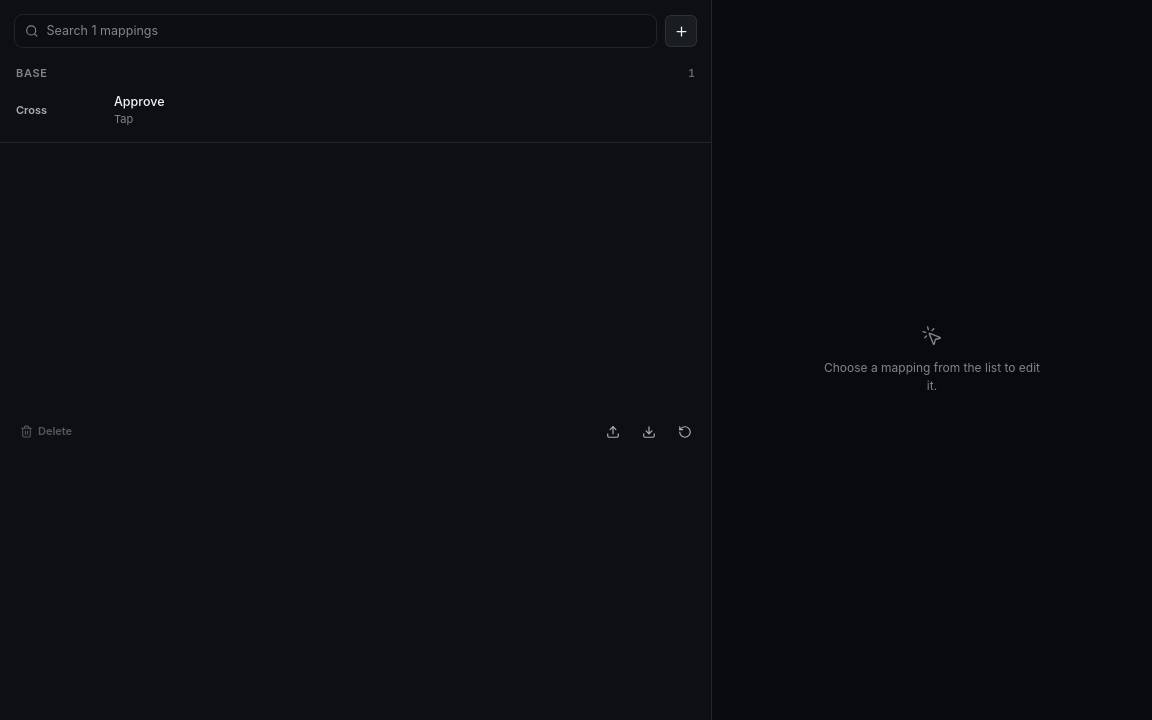
Scenario: resetting to defaults › leaves the library alone when the prompt is cancelled
This screenshot has width=1152, height=720.
Click the button named "Reset mappings to defaults".
click(685, 432)  # box [669,416,701,448]
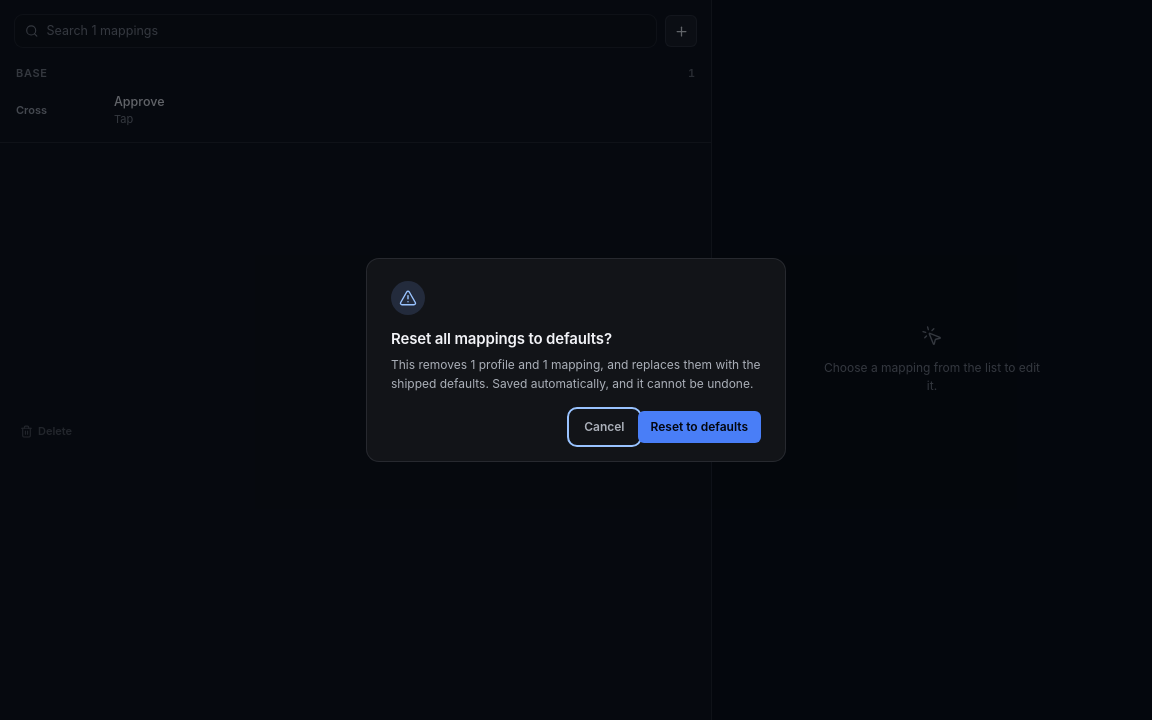
Click the button "Cancel".
click(604, 428)  # box [571,412,638,444]
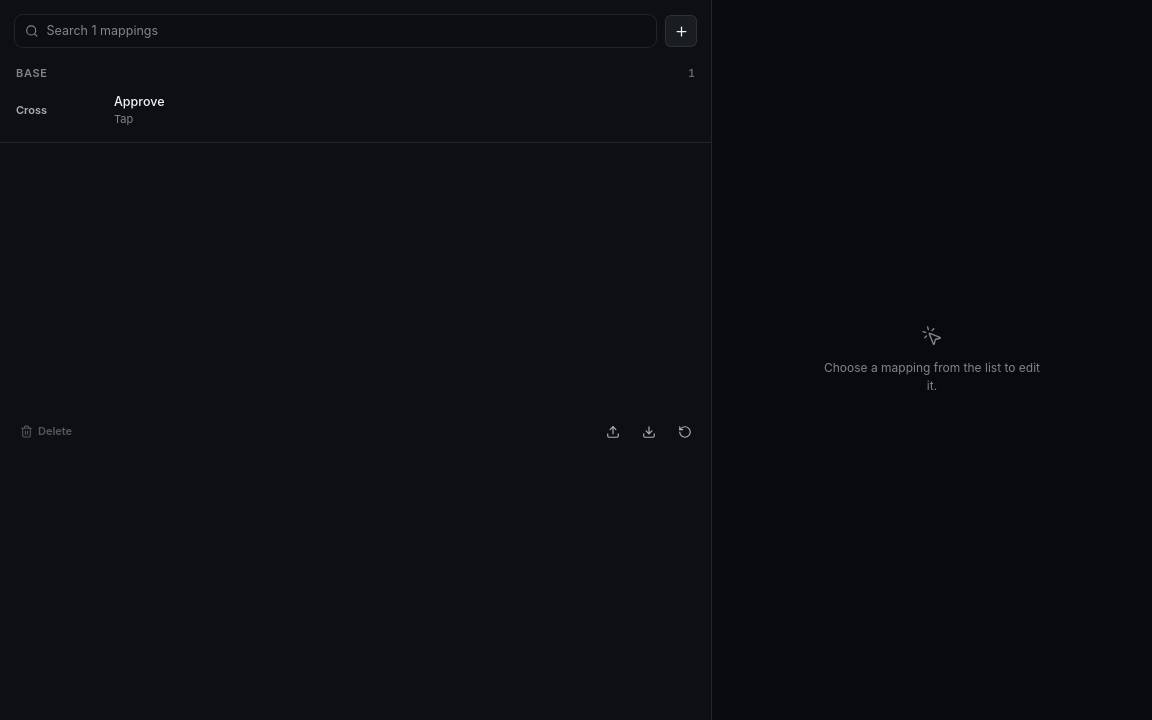
Expected: the text "This removes" is gone
